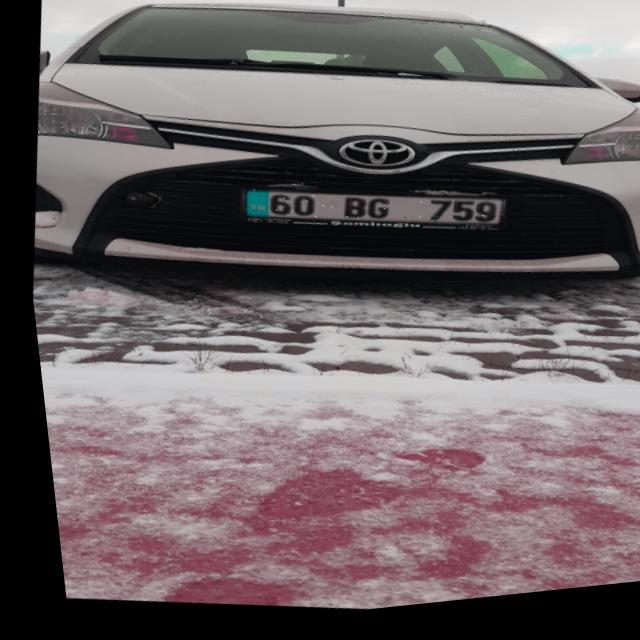license_plate: (234, 173, 500, 257)
